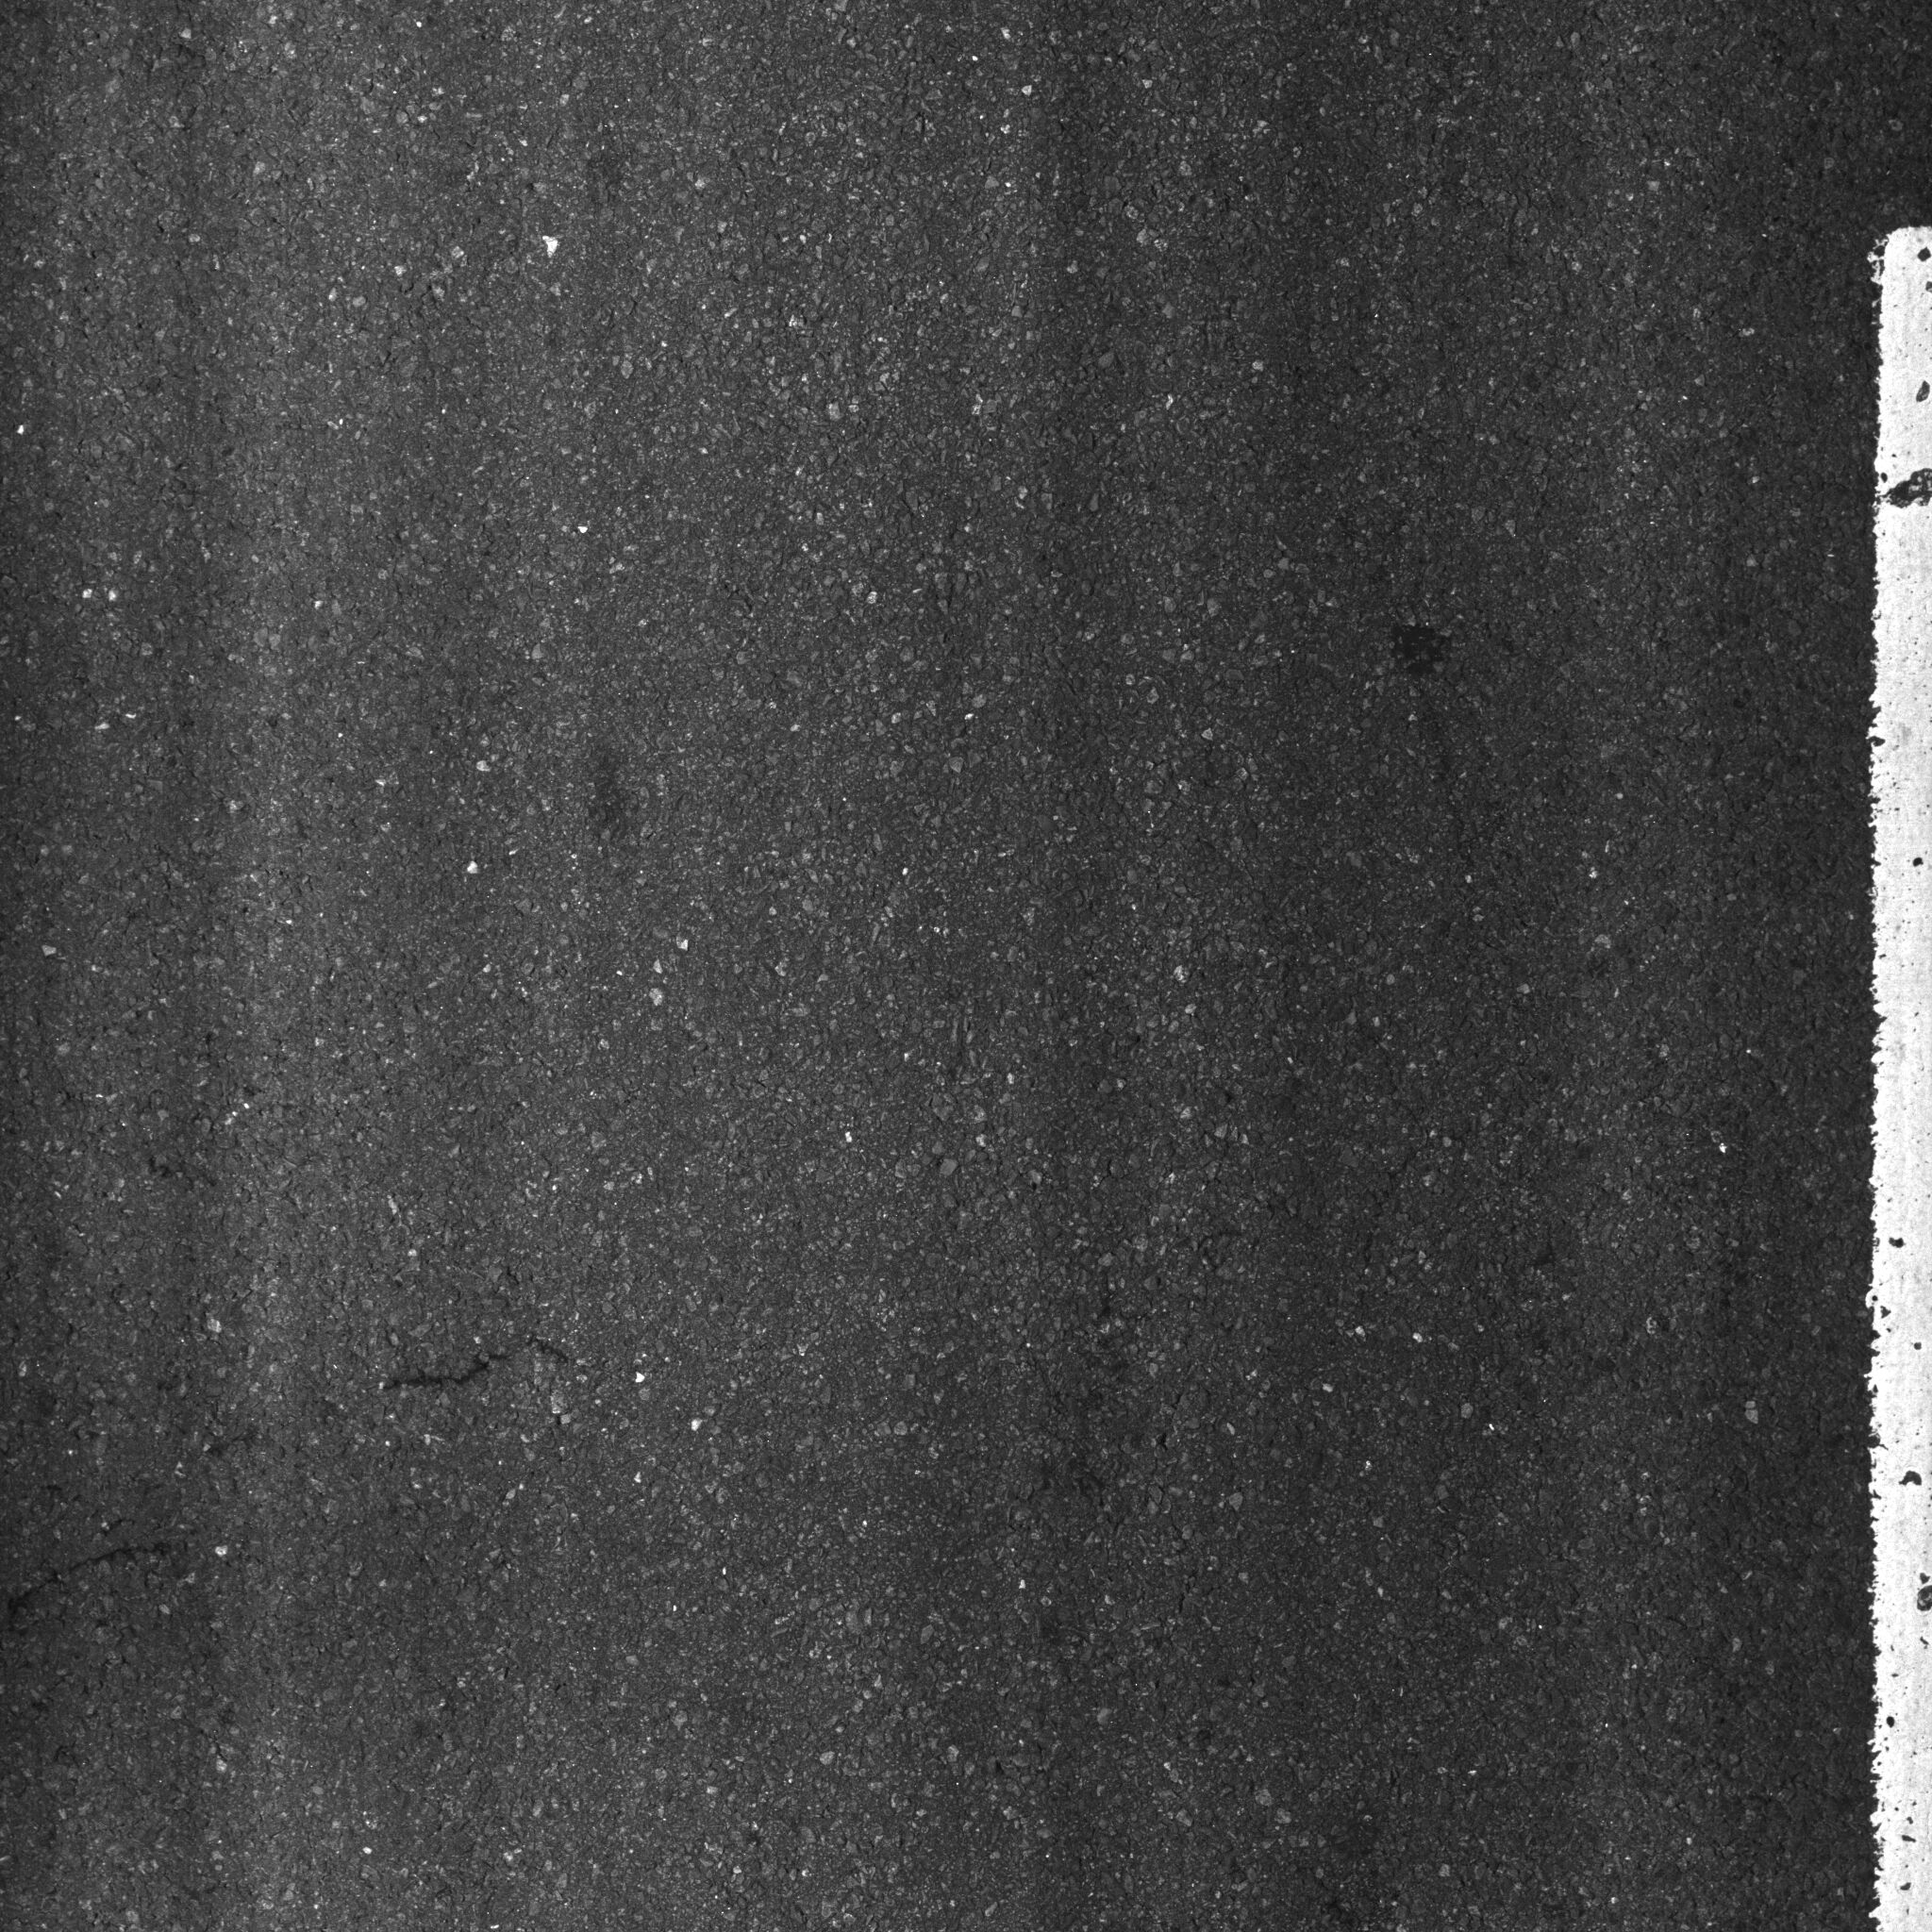transeverse: (359, 1320, 610, 1417), (2, 1527, 235, 1622)
